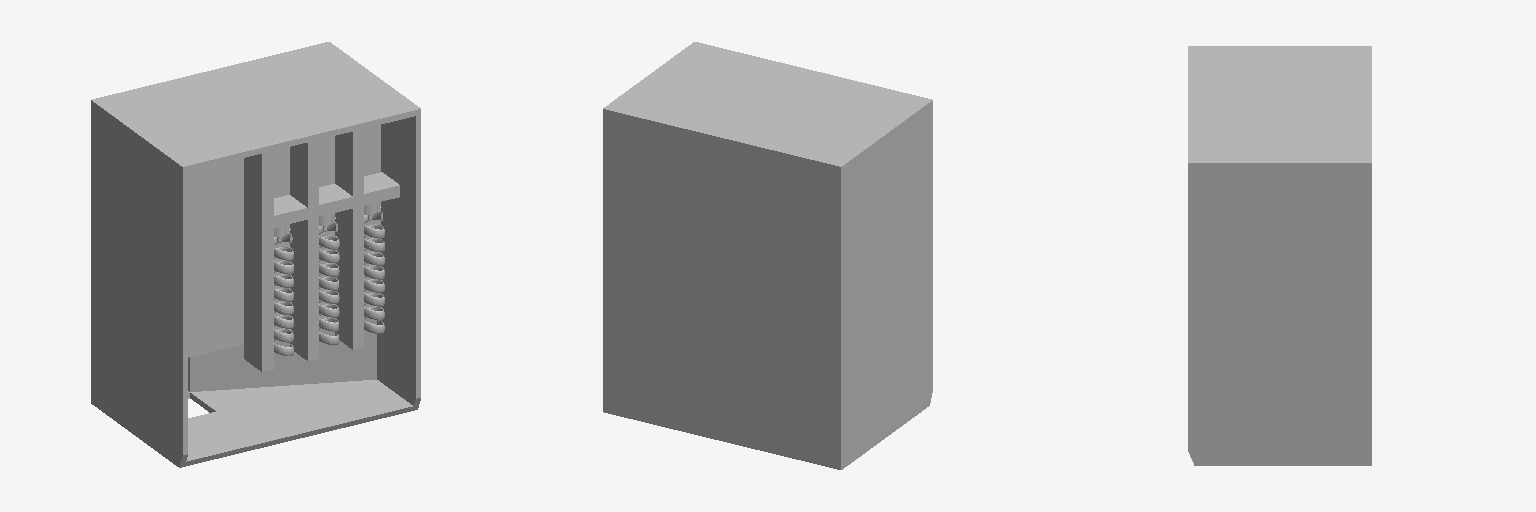
File: FakeATM-dispenser.obj
3 views of the same model, side by side, from view 1: azimuth 30°, elevation 25°; view 2: azimuth 150°, elevation 25°; view 3: azimuth 270°, elevation 25° (orthographic).
Parts seen in each view (by area): view 1: obj_0; view 2: obj_0; view 3: obj_0.
Boxes of the visible parts, x1,y1,x2,y2 form: obj_0: [91, 42, 420, 467]; obj_0: [603, 42, 932, 469]; obj_0: [1188, 46, 1371, 465].
Size of the model in its own units: 420 by 510 by 280.